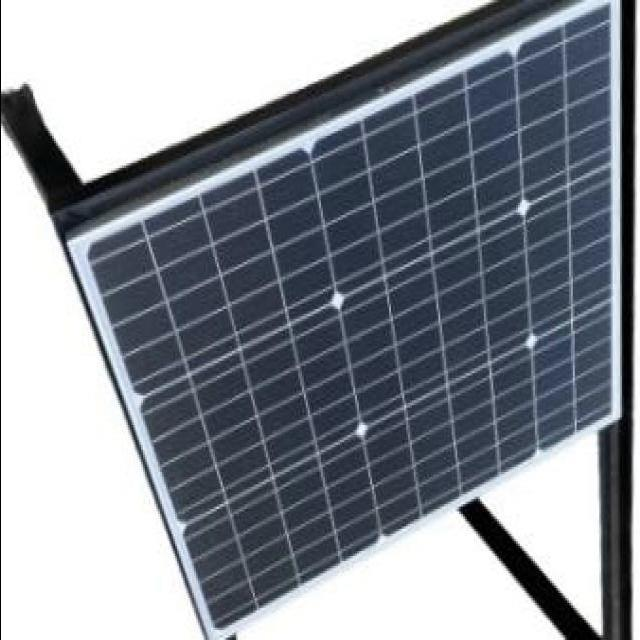no faulty: (83, 8, 618, 627)
